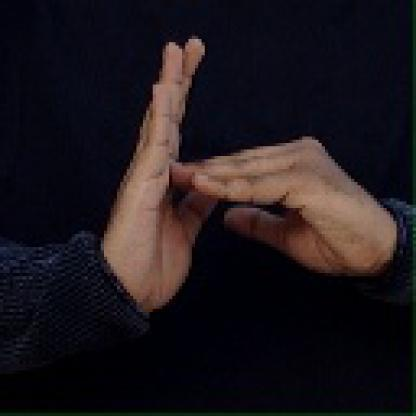Z: (116, 32, 364, 321)
